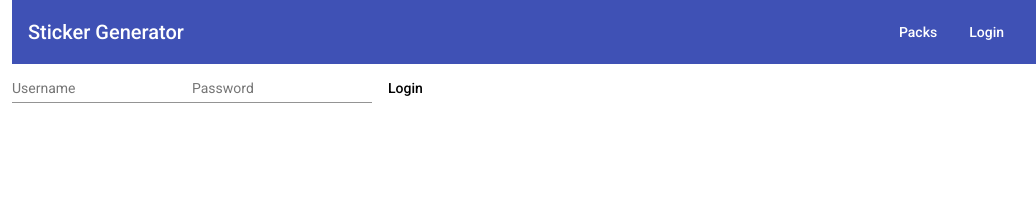
Test: Sticker Generator e2e tests › Auth › Logged in - display email and logout button
The image size is (1036, 224).
Type "test" into the field labelled "Username" at (102,89), box [12,81,192,97]
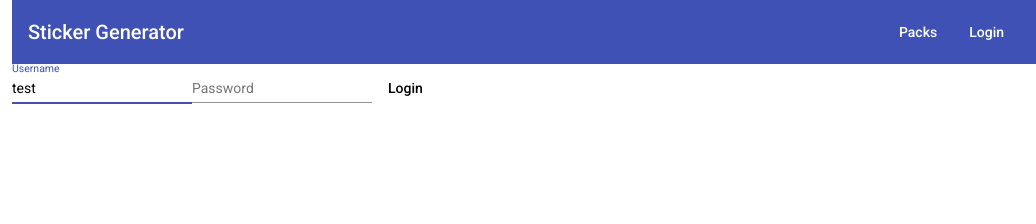
Type "test" into the password field labelled "Password" at (282,89), box [192,81,372,97]
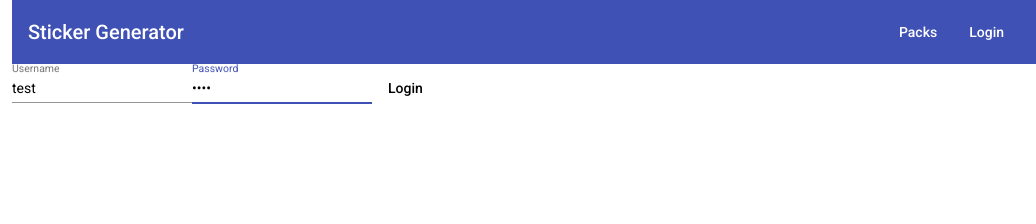
Click the submit button at (406,88), box [372,70,439,106]
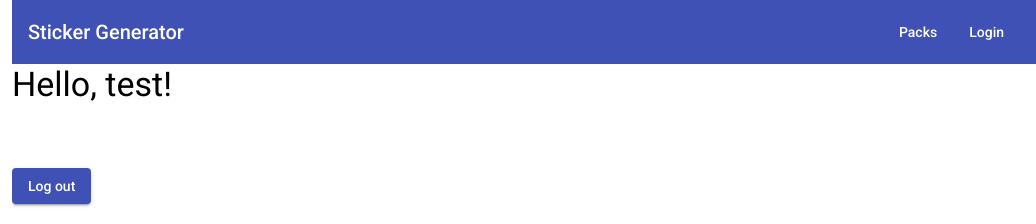
Check: the heading "Hello, test!" is shown, box [12,64,172,104]
Check: the button "Log out" is shown, box [12,168,91,204]
